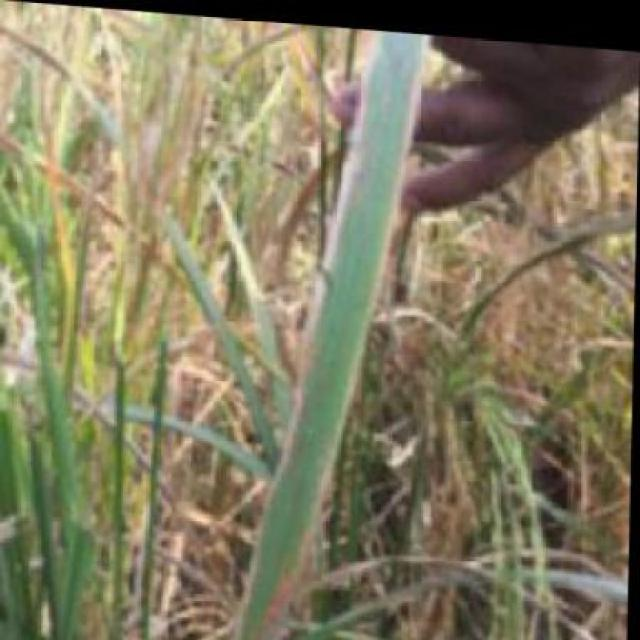Brown_Spot: (265, 22, 386, 550)
